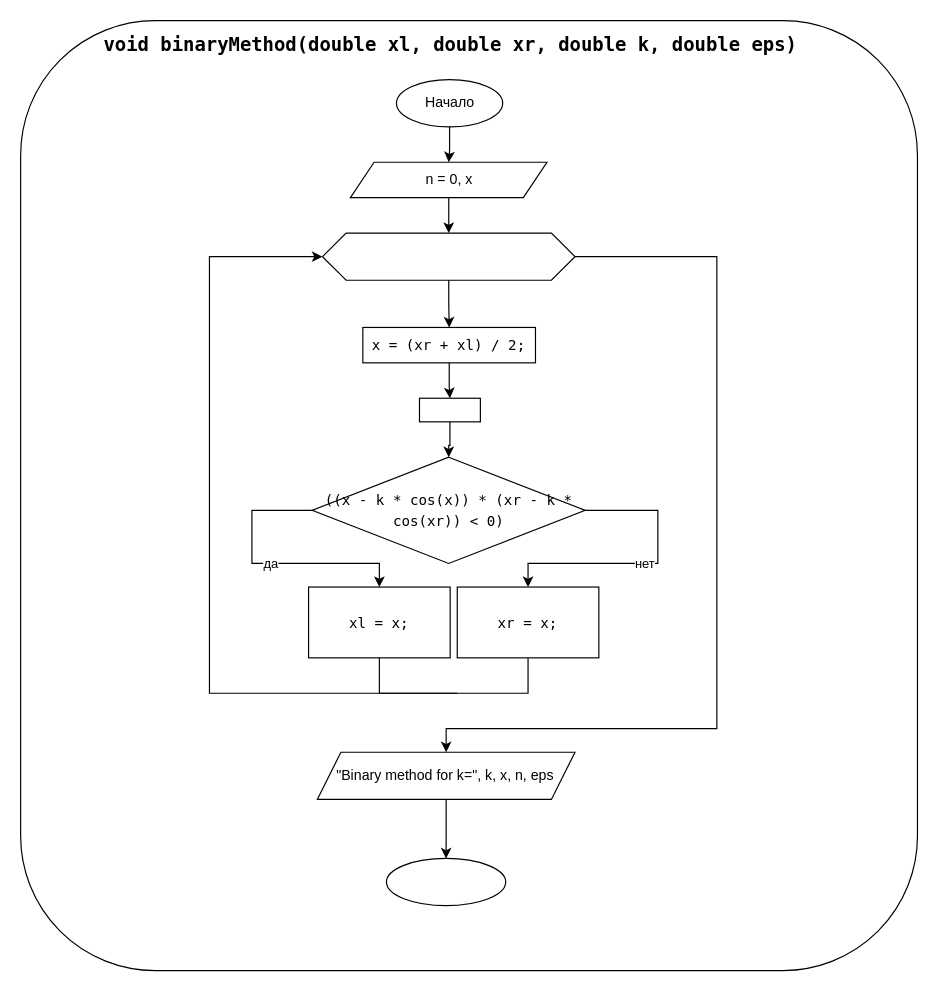
The diagram is 938 pixels wide and 991 high, and some of its shapes have lost their labels. The centre of each missing label's shape, as x and y in pixels:
abs ( x - k * cos ( x )) > eps: the point at 448,256
n++: the point at 449,409
Конец: the point at 445,881
